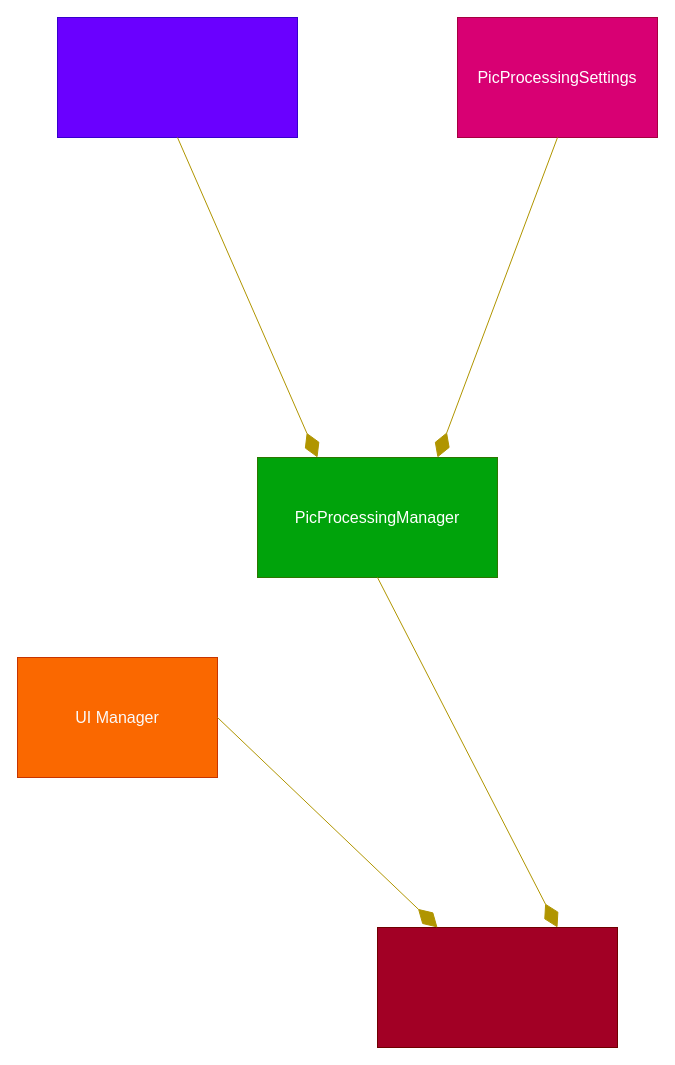
This 675x1065 diagram has some shape labels left out. The shapes that lost their labels are listed below. From the top down, each one's centre as x and y in pixels, then its label:
At point (177, 77): "ImageProcessing ( API )".
At point (497, 987): "PicProcessingApp".
